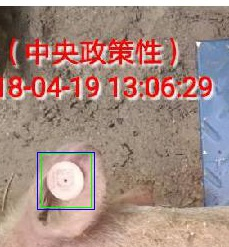text: (41, 153, 91, 207)
